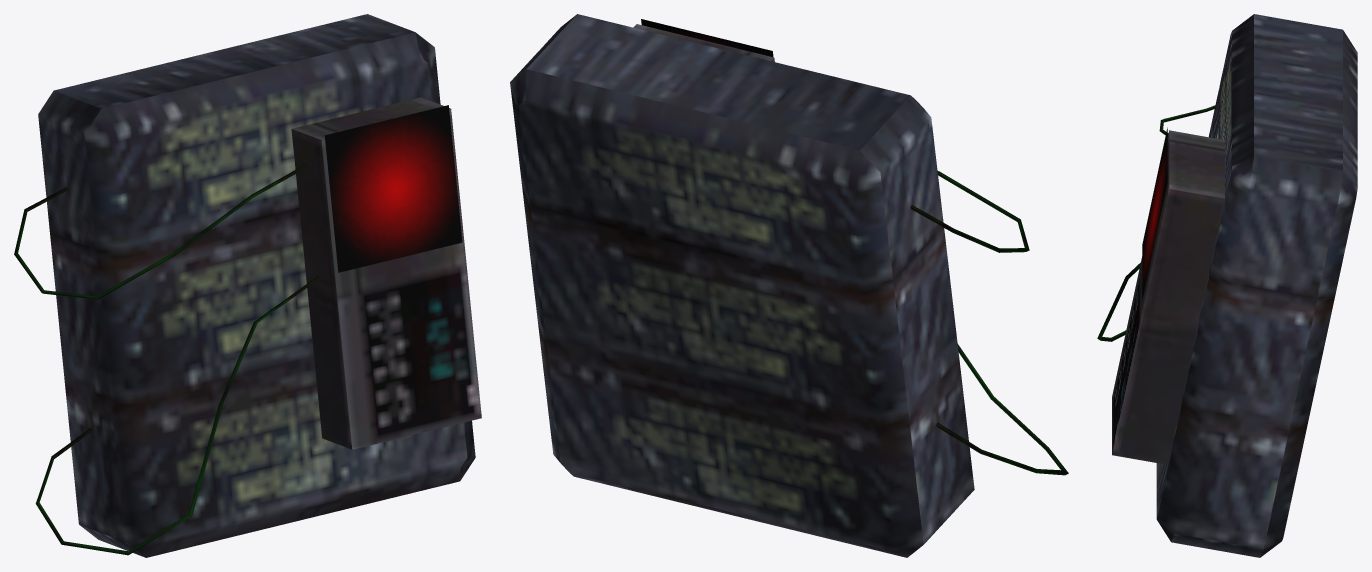
The picture shows the model from 3 angles, left to right: view 1: azimuth 30°, elevation 25°; view 2: azimuth 150°, elevation 25°; view 3: azimuth 270°, elevation 25°; orthographic projection. The views are drawn at different scales.
Parts seen in each view (by area): view 1: _C4bm1; view 2: _C4bm1; view 3: _C4bm1.
Part boxes in pixels (x1,y1,x2,y2): _C4bm1: (14, 14, 481, 557); _C4bm1: (510, 14, 1068, 557); _C4bm1: (1097, 14, 1357, 557).
Bounding box in the file's own units: 0.3782 × 0.3676 × 0.2159.
2 materials, 2 textured.
